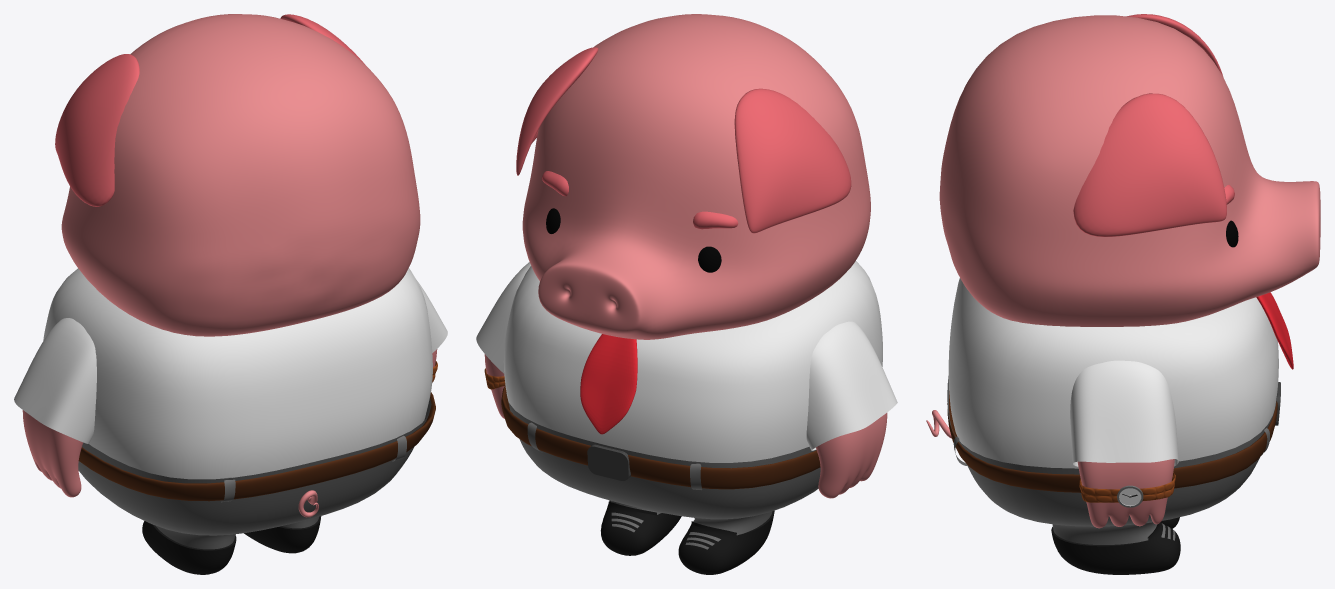
File: Babiup.fbx
3 renders of one model, left to right at view 1: azimuth 30°, elevation 25°; view 2: azimuth 150°, elevation 25°; view 3: azimuth 270°, elevation 25°, orthographic. The views are drawn at different scales.
Parts seen in each view (by area): view 1: Cube, Cube.002, Cube.007, Cube.001, Cube.005, Cube.008, Cube.003; view 2: Cube, Cube.002, Cube.007, Cube.001, Cube.005, Cube.008, Plane.002, Cube.003, Plane.001, Cube.004, Sphere; view 3: Cube, Cube.002, Cube.001, Cube.007, Cube.005, Cube.008, Cube.003, Cube.011, Plane.002.
Part boxes in pixels (box(x1,y1,x2,y2)): Cube: box(61, 14, 420, 336); Cube.002: box(43, 268, 432, 479); Cube.007: box(78, 398, 431, 574); Cube.001: box(55, 14, 365, 206); Cube.005: box(14, 279, 447, 443); Cube.008: box(78, 392, 435, 501); Cube.003: box(22, 349, 437, 497); Cube: box(522, 14, 870, 339); Cube.002: box(503, 261, 882, 462); Cube.007: box(506, 393, 820, 574); Cube.001: box(516, 47, 851, 233); Cube.005: box(476, 262, 897, 450); Cube.008: box(501, 385, 820, 489); Plane.002: box(580, 334, 637, 434); Cube.003: box(484, 354, 887, 498); Plane.001: box(587, 445, 630, 480); Cube.004: box(542, 171, 738, 229); Sphere: box(546, 208, 721, 272); Cube: box(939, 15, 1320, 326); Cube.002: box(948, 278, 1278, 468); Cube.001: box(1073, 14, 1226, 236); Cube.007: box(947, 376, 1277, 574); Cube.005: box(1070, 360, 1178, 466); Cube.008: box(947, 391, 1277, 492); Cube.003: box(1077, 459, 1174, 528); Cube.011: box(1079, 472, 1175, 502); Plane.002: box(1256, 292, 1293, 369).
Size of the model in its own units: 109 by 137 by 94.81.
